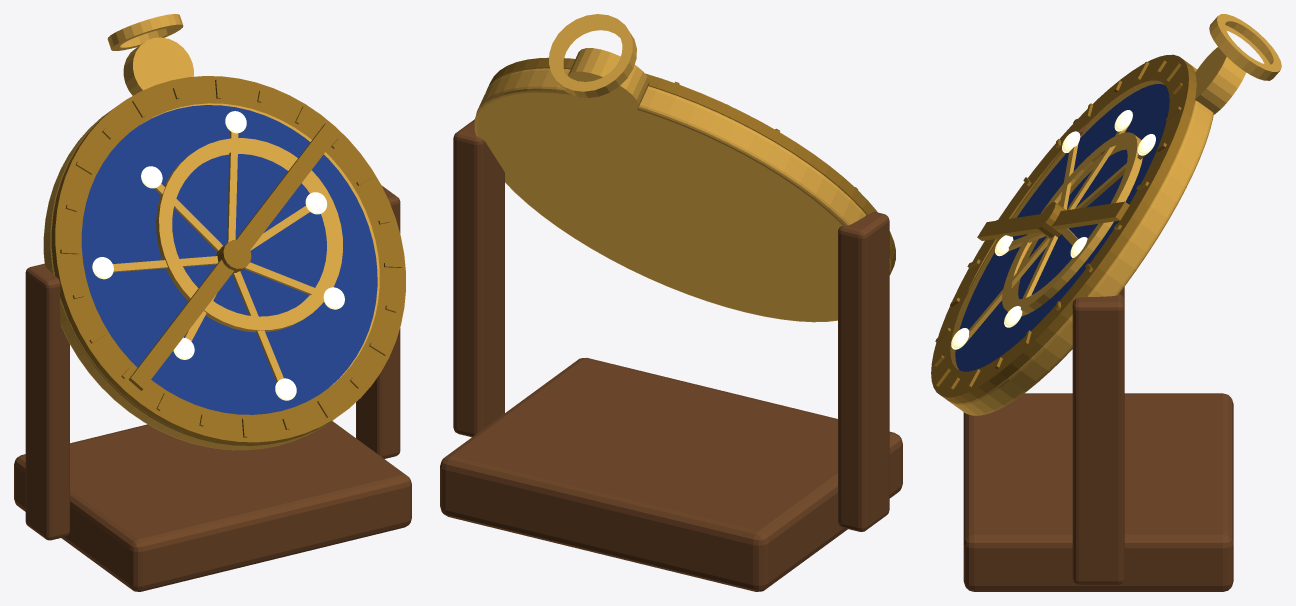
The model's file is astrolabio.glb.
The picture shows the model from 3 angles, left to right: view 1: azimuth 30°, elevation 25°; view 2: azimuth 150°, elevation 25°; view 3: azimuth 270°, elevation 25°; orthographic projection. The views are drawn at different scales.
Parts seen in each view (by area): view 1: lamina, base, limbo, brazo-1, ecliptica, regla, madre, brazo1, trono, argolla, puntero5, puntero1 (+5 smaller); view 2: base, madre, brazo-1, brazo1, limbo, argolla, trono; view 3: base, brazo1, limbo, lamina, madre, ecliptica, argolla, regla, trono, puntero5, eje, puntero2 (+2 smaller).
Boxes of the visible parts, x1=… form: lamina: x1=81, y1=105, x2=377, y2=414; base: x1=14, y1=421, x2=411, y2=591; limbo: x1=51, y1=76, x2=405, y2=444; brazo-1: x1=25, y1=263, x2=69, y2=540; ecliptica: x1=156, y1=138, x2=342, y2=332; regla: x1=128, y1=123, x2=338, y2=390; madre: x1=43, y1=103, x2=379, y2=450; brazo1: x1=356, y1=185, x2=400, y2=458; trono: x1=123, y1=37, x2=193, y2=95; argolla: x1=107, y1=14, x2=183, y2=50; puntero5: x1=232, y1=271, x2=283, y2=382; puntero1: x1=227, y1=131, x2=238, y2=242; base: x1=440, y1=358, x2=902, y2=591; madre: x1=474, y1=68, x2=890, y2=322; brazo-1: x1=838, y1=211, x2=889, y2=531; brazo1: x1=453, y1=119, x2=504, y2=437; limbo: x1=485, y1=57, x2=895, y2=275; argolla: x1=549, y1=14, x2=636, y2=97; trono: x1=568, y1=48, x2=649, y2=111; base: x1=963, y1=393, x2=1233, y2=591; brazo1: x1=1072, y1=294, x2=1124, y2=584; limbo: x1=931, y1=54, x2=1196, y2=402; lamina: x1=955, y1=84, x2=1169, y2=371; madre: x1=950, y1=65, x2=1213, y2=415; ecliptica: x1=1002, y1=132, x2=1142, y2=315; argolla: x1=1209, y1=14, x2=1281, y2=80; regla: x1=977, y1=201, x2=1129, y2=240; trono: x1=1195, y1=47, x2=1246, y2=114; puntero5: x1=965, y1=237, x2=1049, y2=343; eje: x1=1035, y1=202, x2=1065, y2=238; puntero2: x1=1067, y1=124, x2=1129, y2=210.
Size of the model in its own units: 0.43 by 0.5332 by 0.3382.
